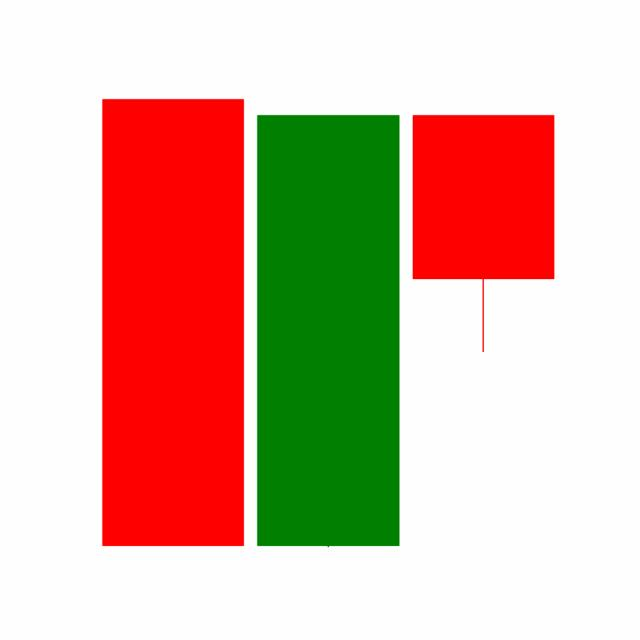Marubozu: (249, 111, 406, 552)
